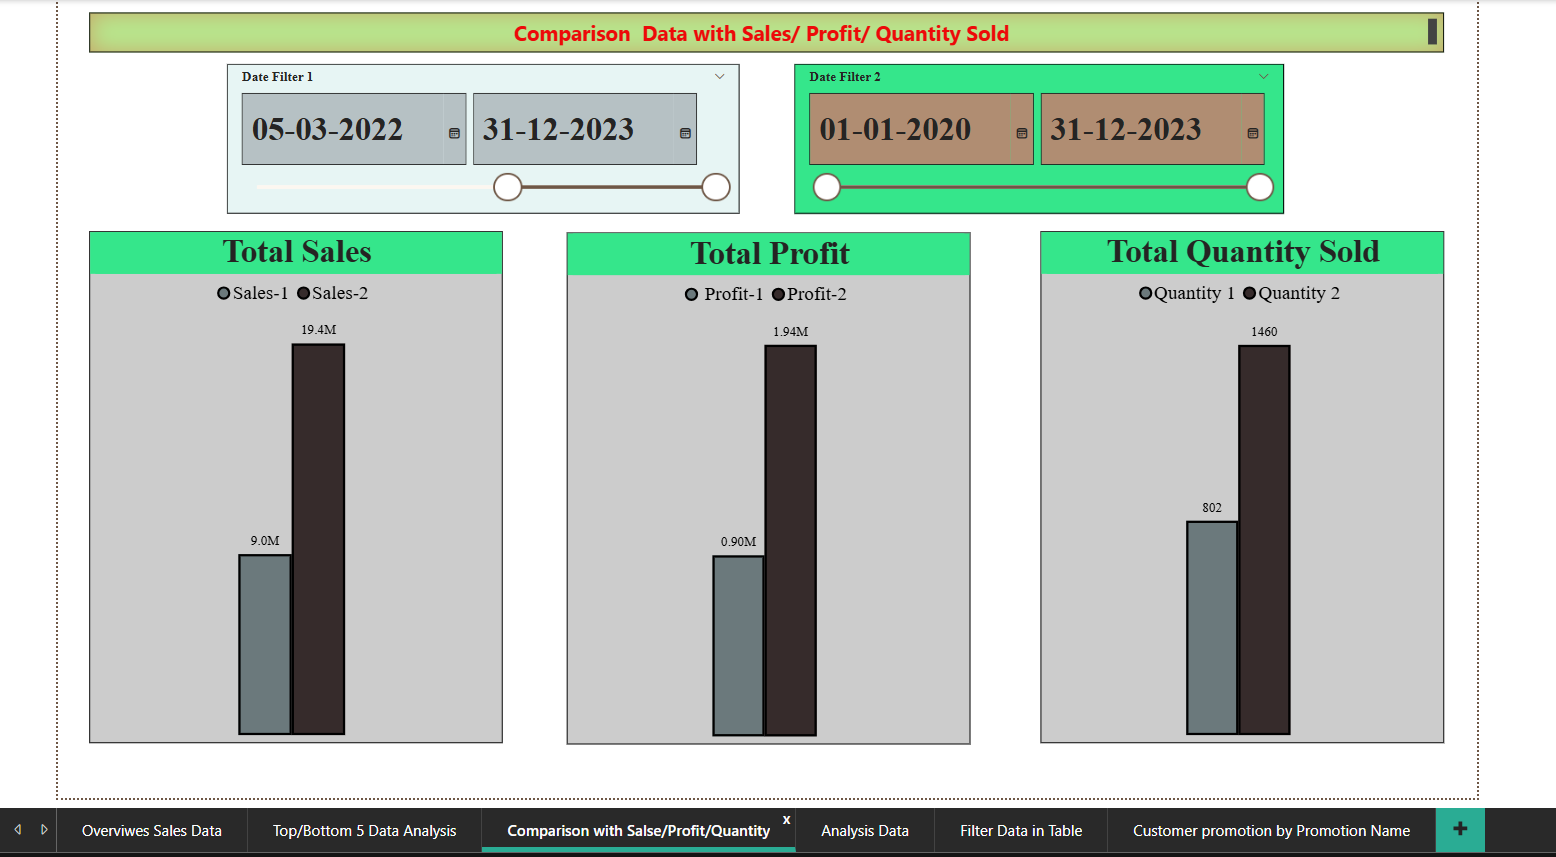

This screenshot's page, from the dashboard's own definition file:
{"tool":"powerbi","page":{"name":"Comparison with Salse/Profit/Quantity","canvas":[1280,720],"ordinal":2},"visuals":[{"type":"slicer","fields":{"Values":["Date Table 1.Date"]},"box":[28.6,21.4,462.9,135.7],"z":0},{"type":"slicer","fields":{"Values":["Date Table 2.Date"]},"box":[808.6,21.4,441.4,135.7],"z":1000},{"type":"clusteredColumnChart","title":"Total Sales ","fields":{"Y":["Sum(Fact Table.Net Sales)","Measure Table.Sum of Net Sales"]},"box":[28.6,208.6,372.9,461.4],"z":2000},{"type":"clusteredColumnChart","title":"Total Profit","fields":{"Y":["Sum(Fact Table.Profit)","Measure Table.Total Profit"]},"box":[458.6,210,364.3,461.4],"z":3000},{"type":"clusteredColumnChart","title":"Total Quantity Sold","fields":{"Y":["Sum(Fact Table.Units Sold)","Measure Table.Queantity Sold"]},"box":[885.7,208.6,364.3,461.4],"z":4000}]}

Visuals, with their boxes on the page's 1280x720 design canvas (x1, y1, x2, y2). These are canvas units, not pixel positions in the 1556x857 screenshot, which may show the page scaled, cropped or inside an application window:
slicer - Date Table 1.Date: bbox(29, 21, 492, 157)
slicer - Date Table 2.Date: bbox(809, 21, 1250, 157)
"Total Sales " clusteredColumnChart: bbox(29, 209, 402, 670)
"Total Profit" clusteredColumnChart: bbox(459, 210, 823, 671)
"Total Quantity Sold" clusteredColumnChart: bbox(886, 209, 1250, 670)
